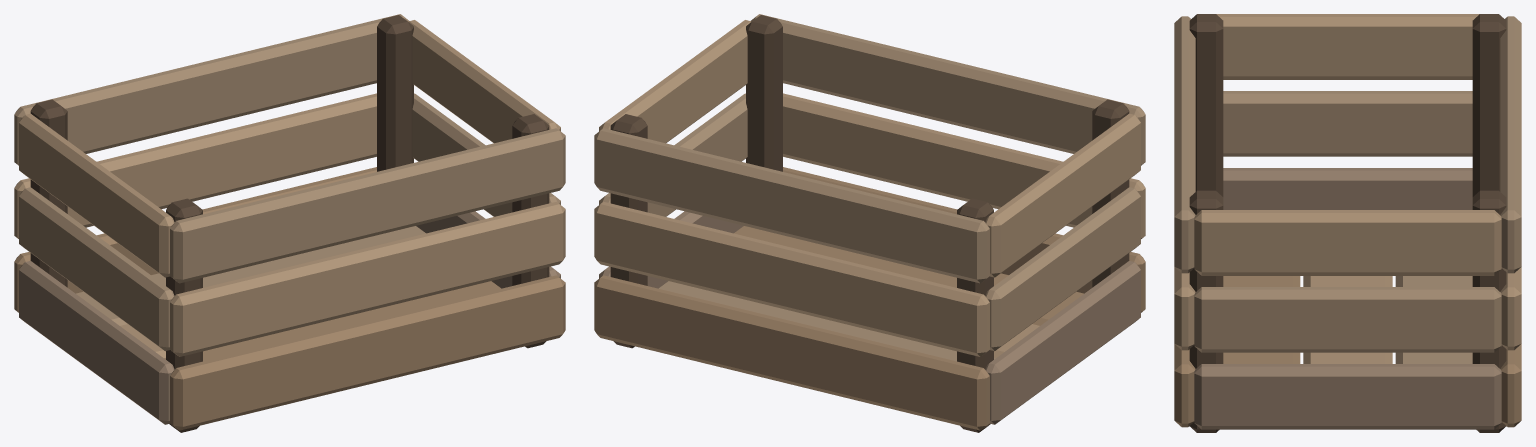
The model's file is fish_crate.glb.
3 renders of one model, left to right at view 1: azimuth 30°, elevation 25°; view 2: azimuth 150°, elevation 25°; view 3: azimuth 270°, elevation 25°, orthographic. The views are drawn at different scales.
Visible parts, largest first — view 1: fish_crate; view 2: fish_crate; view 3: fish_crate.
Part boxes in pixels (x1,y1,x2,y2): fish_crate: [14, 14, 565, 432]; fish_crate: [594, 14, 1145, 432]; fish_crate: [1174, 14, 1521, 432].
Size of the model in its own units: 0.789 by 0.42 by 0.565.
